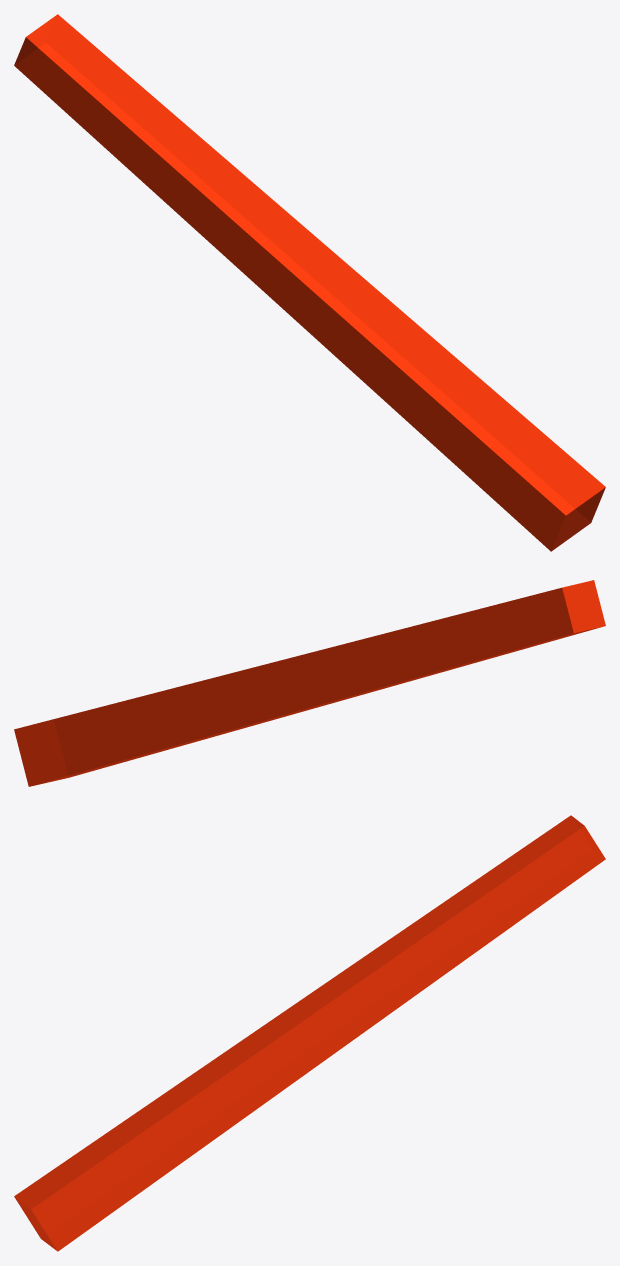
Rendered from Event_421556567_EBrechit_13.fbx.
3 views of the same model, one above another, from view 1: azimuth 30°, elevation 25°; view 2: azimuth 210°, elevation 25°; view 3: azimuth 270°, elevation 25° (orthographic). The views are drawn at different scales.
Parts seen in each view (by area): view 1: Model; view 2: Model; view 3: Model.
Boxes of the visible parts, x1,y1,x2,y2 form: Model: (14,14,605,551); Model: (14,580,605,786); Model: (14,815,605,1251).
Bounding box in the file's own units: 0.3804 × 0.4706 × 0.7687.
